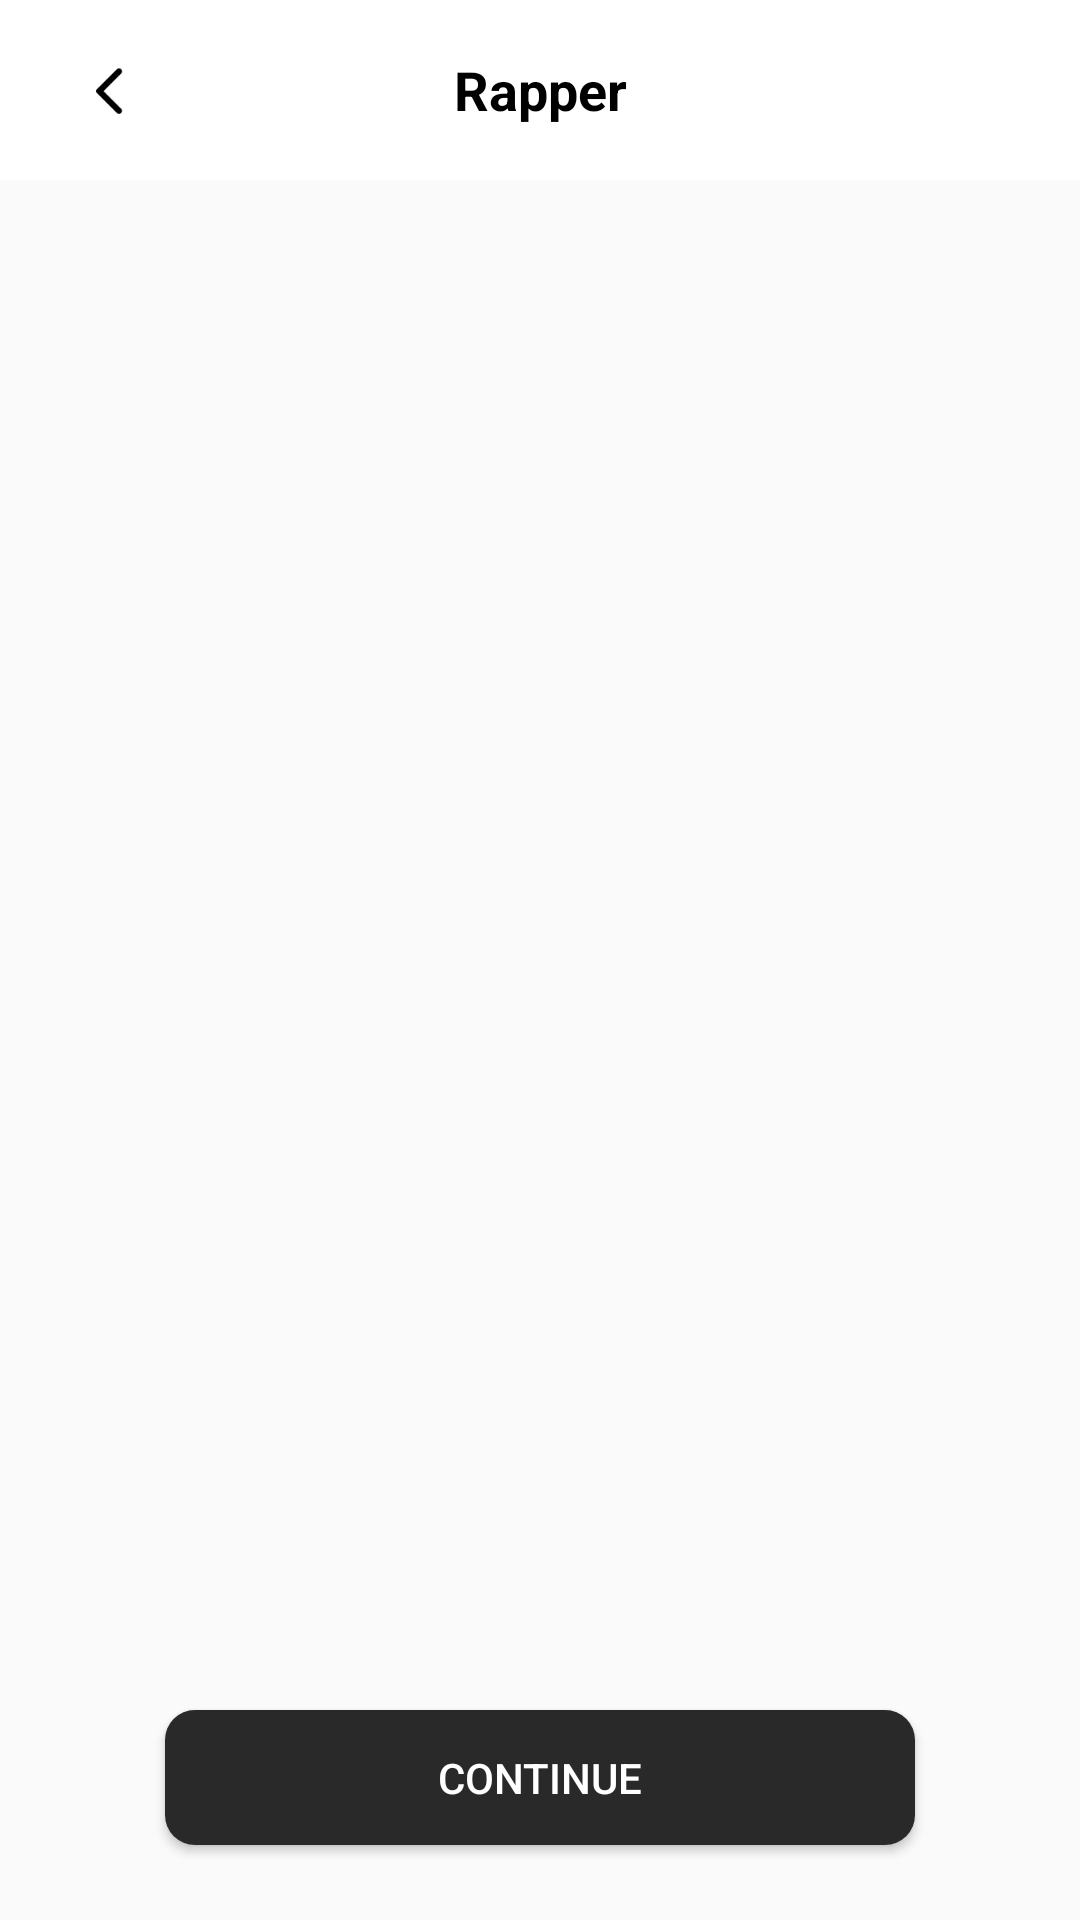

Icons on this 1080x1920 Android screen, each with the point to tap as [x,y]:
back: [109,91]
